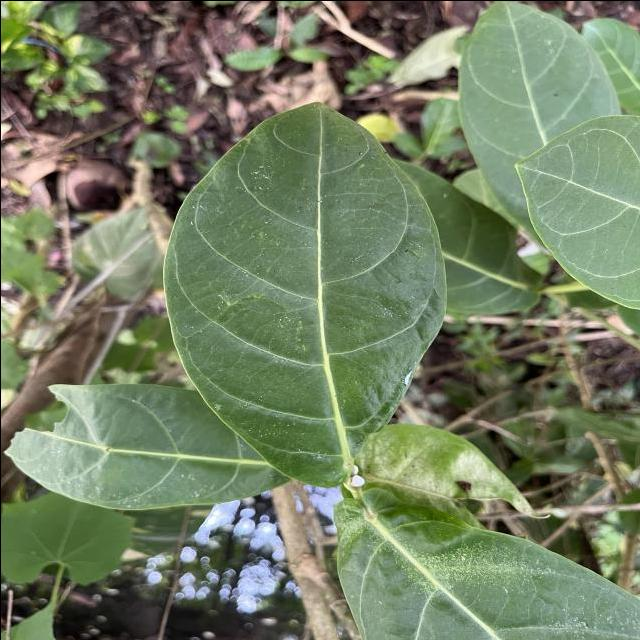Calotropis gigantea: (160, 98, 448, 489), (453, 0, 620, 233), (0, 381, 287, 512)
